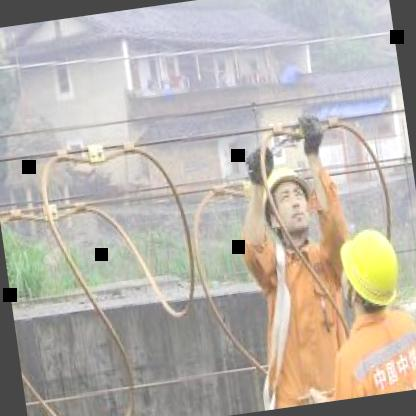helmet: (331, 216, 412, 323), (255, 148, 320, 245)
